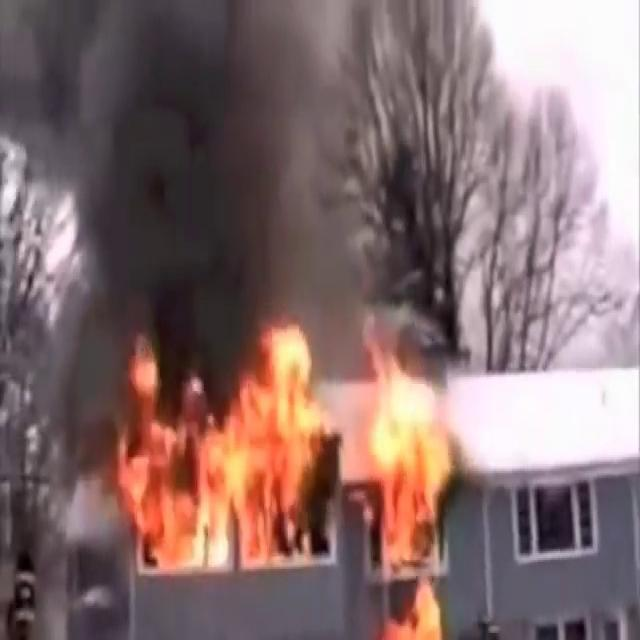Fire: (106, 314, 465, 609)
Smoke: (0, 0, 382, 373)
